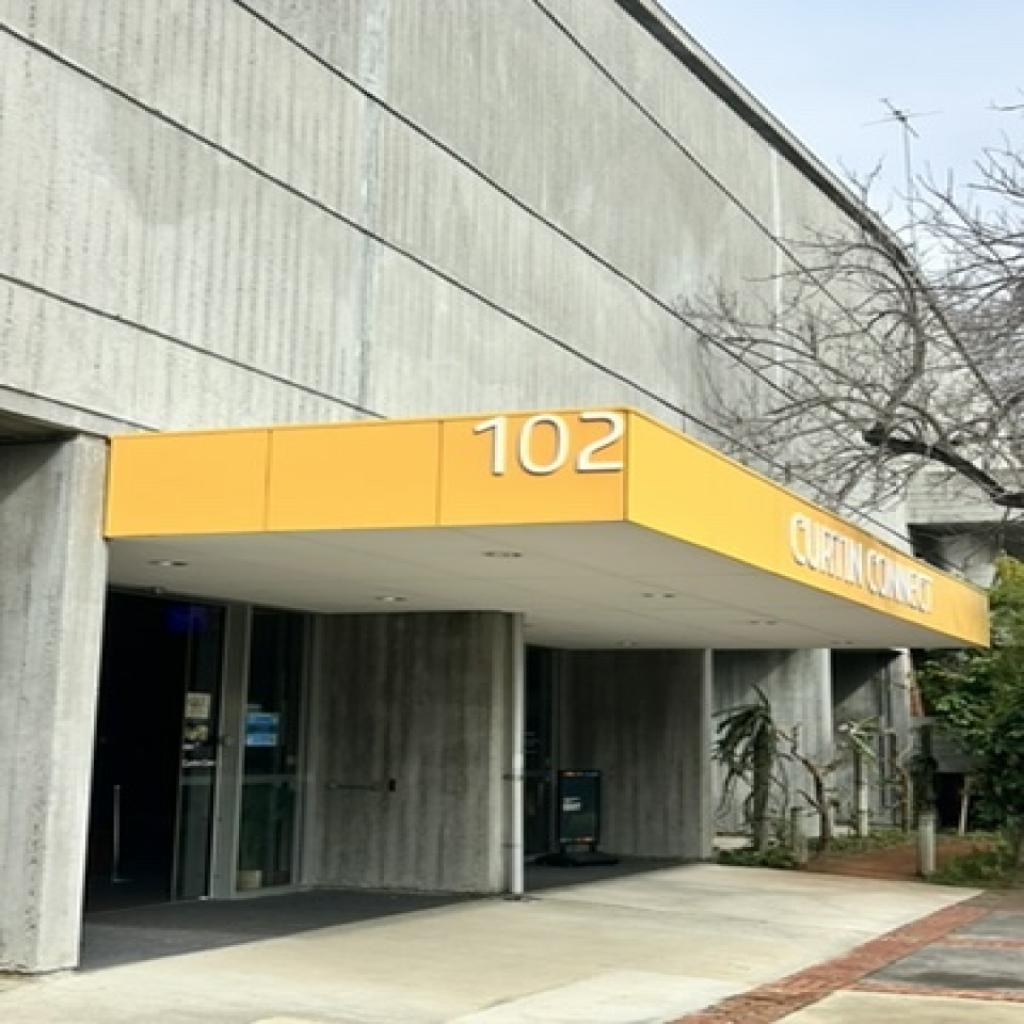BuildingCodes: (466, 410, 628, 480)
